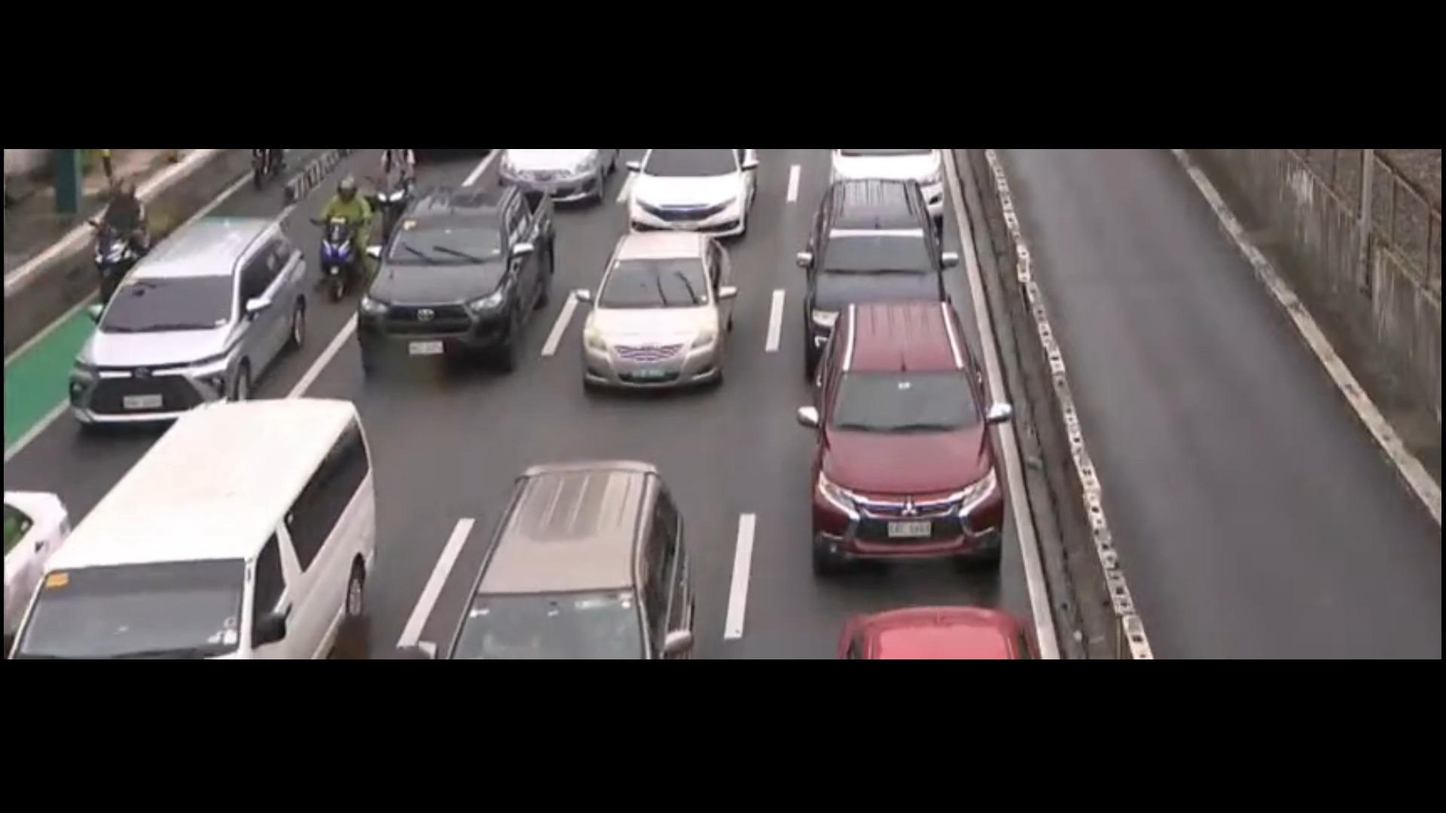Motorcycle: (72, 168, 168, 292), (313, 172, 390, 287), (354, 143, 441, 198)
Pickup: (333, 174, 575, 379)
SUV: (800, 277, 1047, 575), (45, 207, 341, 442), (425, 454, 721, 663), (795, 170, 978, 347)
Sedan: (572, 212, 738, 405), (608, 142, 767, 238)
Van: (0, 396, 409, 657)
